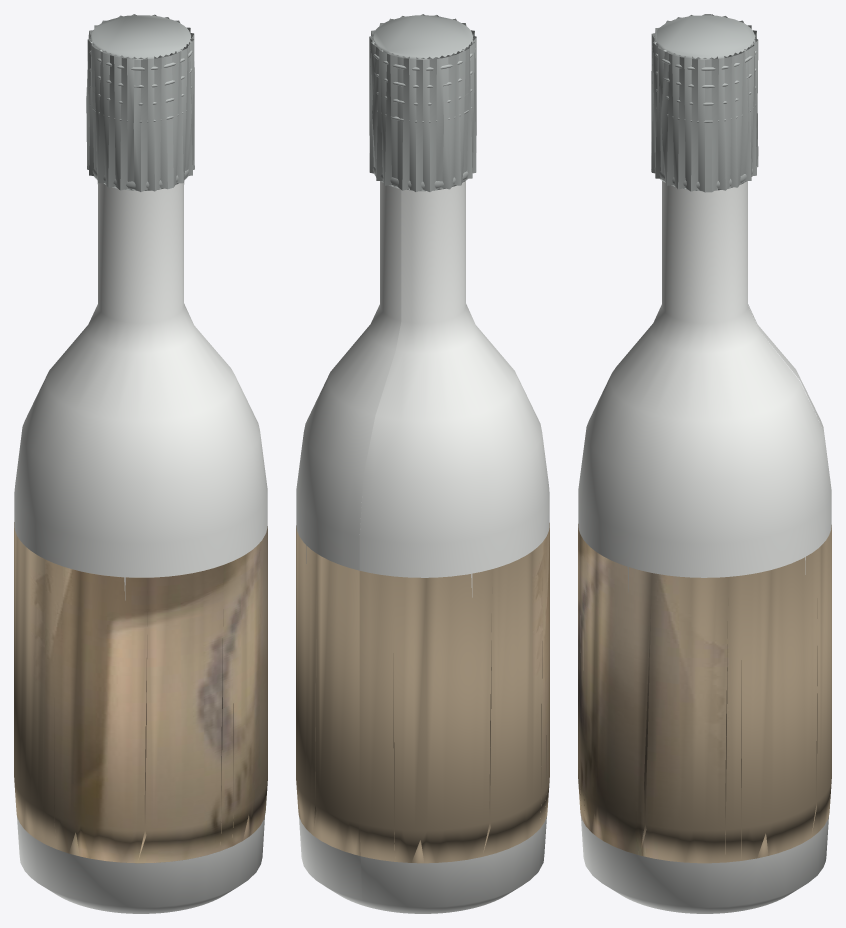
3 views of the same model, side by side, from view 1: azimuth 30°, elevation 25°; view 2: azimuth 150°, elevation 25°; view 3: azimuth 270°, elevation 25° (orthographic).
Parts seen in each view (by area): view 1: thin shell with corrected shoulder, profile-conforming printed label, removable closure; view 2: thin shell with corrected shoulder, profile-conforming printed label, removable closure; view 3: thin shell with corrected shoulder, profile-conforming printed label, removable closure.
Part boxes in pixels (x1=…): thin shell with corrected shoulder: x1=14, y1=182, x2=267, y2=913; profile-conforming printed label: x1=14, y1=522, x2=267, y2=863; removable closure: x1=86, y1=14, x2=194, y2=191; thin shell with corrected shoulder: x1=296, y1=181, x2=549, y2=913; profile-conforming printed label: x1=296, y1=523, x2=549, y2=863; removable closure: x1=369, y1=14, x2=476, y2=191; thin shell with corrected shoulder: x1=578, y1=181, x2=831, y2=913; profile-conforming printed label: x1=578, y1=524, x2=831, y2=863; removable closure: x1=651, y1=14, x2=758, y2=192.
Size of the model in its own units: 0.0747 by 0.2711 by 0.0747.
Materials: 4 (1 with a texture image).
